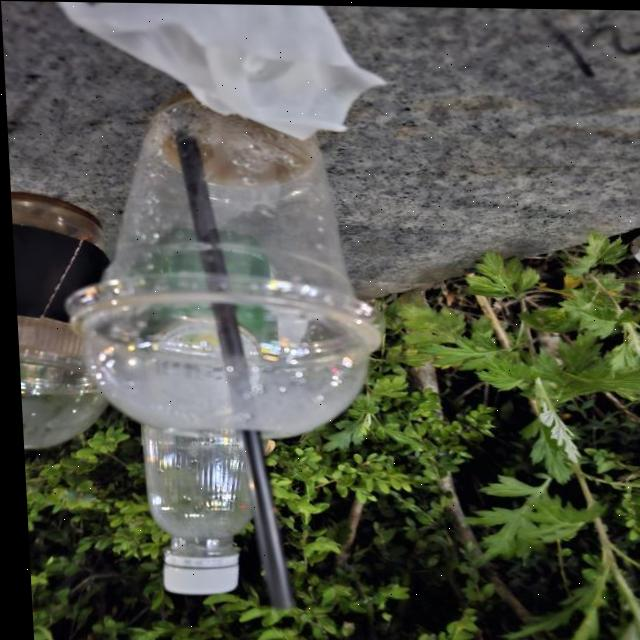cup: (44, 75, 386, 447)
